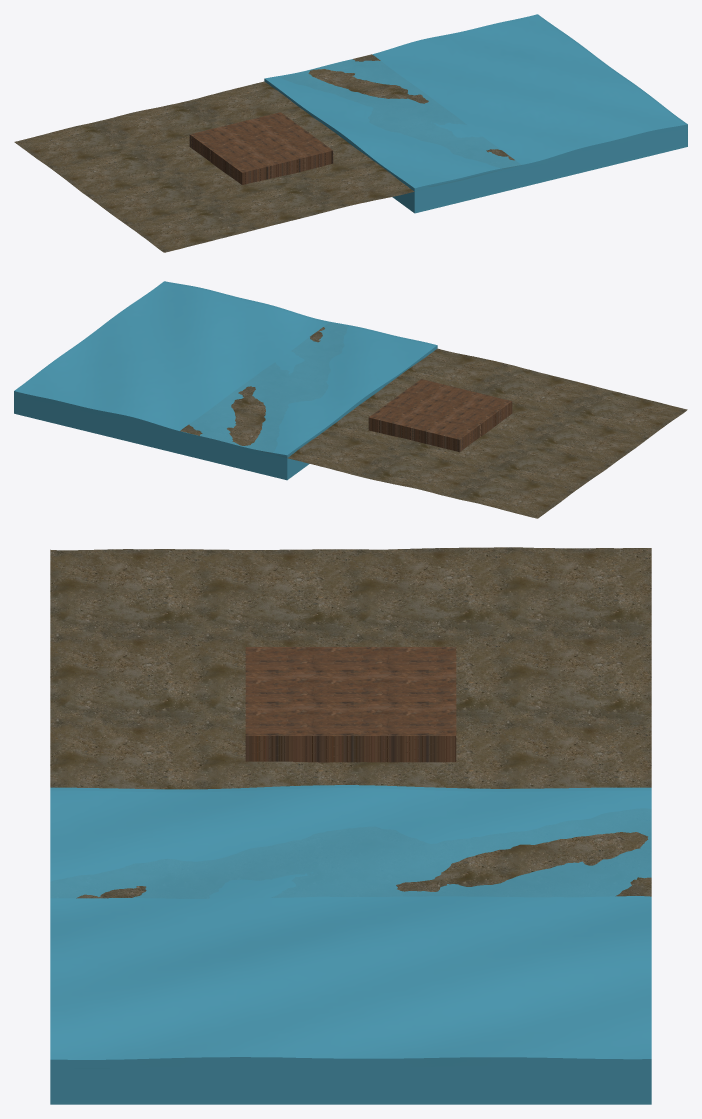
Rendered from thermal-circulation.glb.
The picture shows the model from 3 angles, top to bottom: view 1: azimuth 30°, elevation 25°; view 2: azimuth 150°, elevation 25°; view 3: azimuth 270°, elevation 25°; orthographic projection. The views are drawn at different scales.
Parts seen in each view (by area): view 1: Thermal_Sea, Thermal_Land, Thermal_Urban; view 2: Thermal_Sea, Thermal_Land, Thermal_Urban; view 3: Thermal_Sea, Thermal_Land, Thermal_Urban.
Boxes of the visible parts, x1,y1,x2,y2 form: Thermal_Sea: (264, 14, 687, 213); Thermal_Land: (14, 54, 515, 252); Thermal_Urban: (189, 112, 333, 184); Thermal_Sea: (14, 281, 437, 480); Thermal_Land: (180, 327, 687, 518); Thermal_Urban: (368, 379, 512, 452); Thermal_Sea: (50, 785, 651, 1104); Thermal_Land: (50, 547, 651, 898); Thermal_Urban: (245, 647, 456, 762).
Size of the model in its own units: 8.05 by 0.515 by 4.
3 materials, 2 textured.
